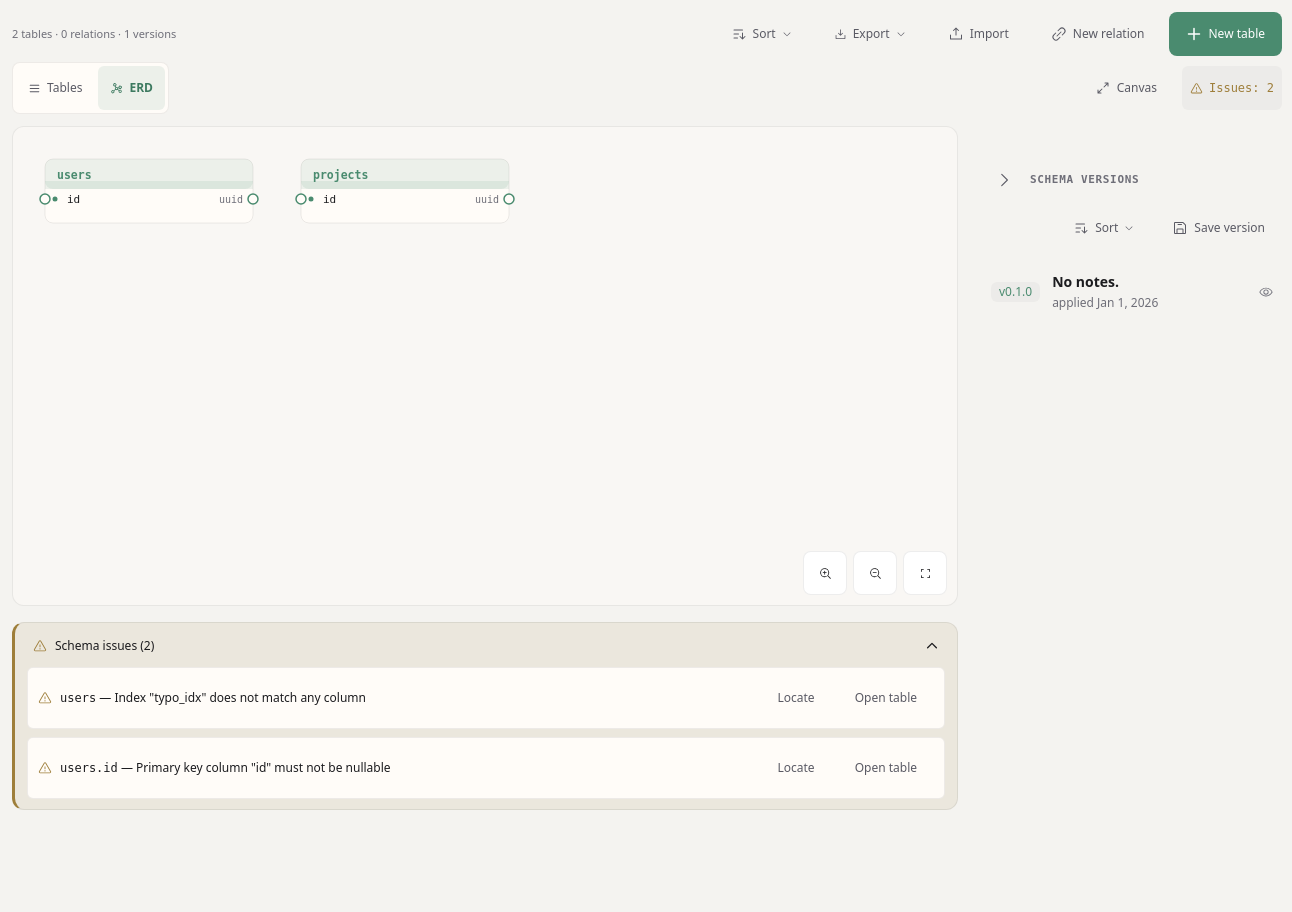
it: SchemaPage F2-3 issues badge + strip › badge membuka + fokus strip, tidak toggle; collapse via header
This screenshot has width=1292, height=912.
Expected: the element that starts with "Schema issues (2)" is shown, [12, 622, 958, 810]
// Klik badge saat terbuka: tetap terbuka + fokus ke strip (rAF).
Click the button with aria-label "2 schema issues".
click(1232, 88)  # box [1182, 66, 1282, 110]
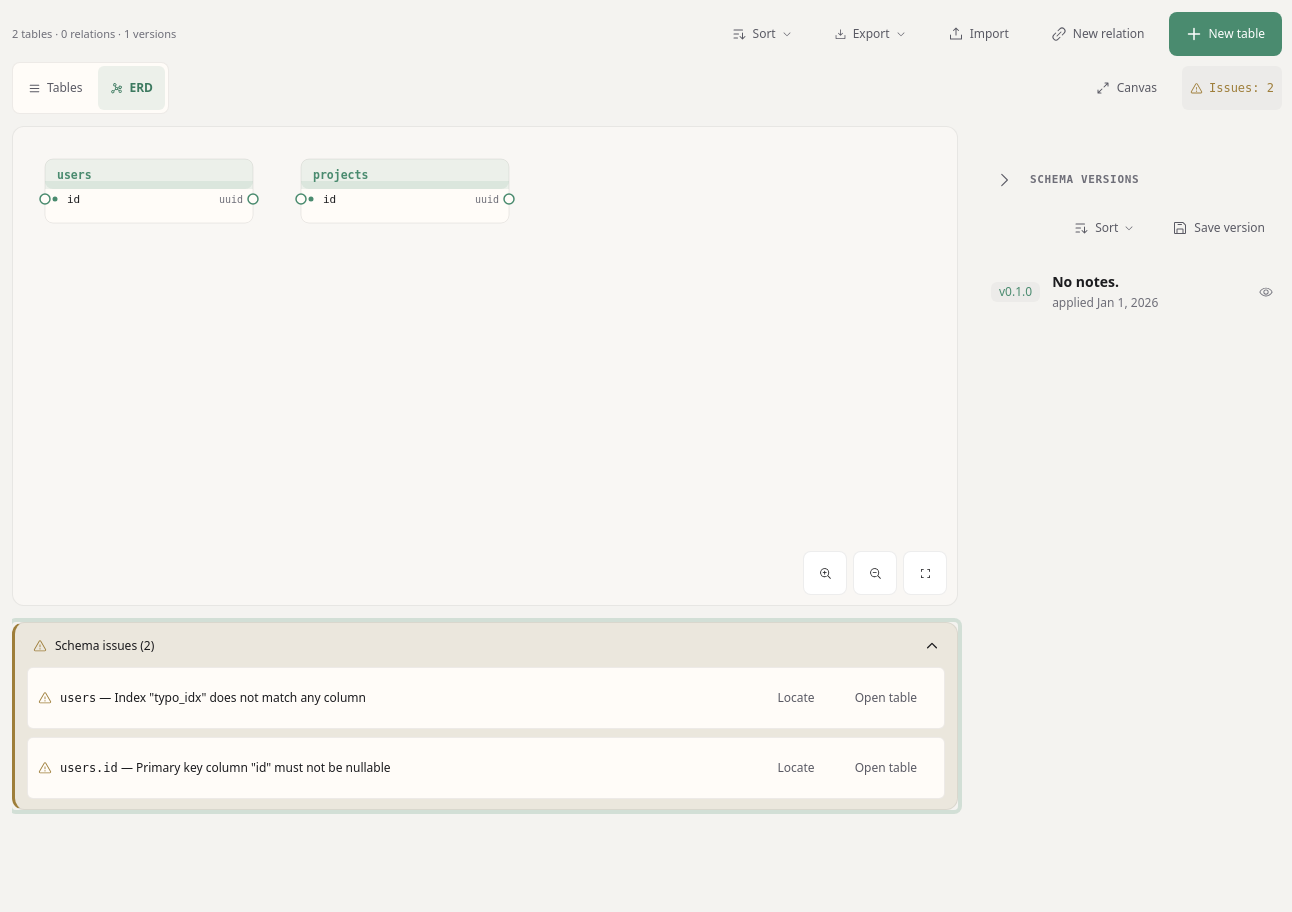
Expected: the element that starts with "Schema issues (2)" is shown, [12, 622, 958, 810]
Click the button "Schema issues (2)".
click(105, 646)  # box [27, 633, 945, 659]
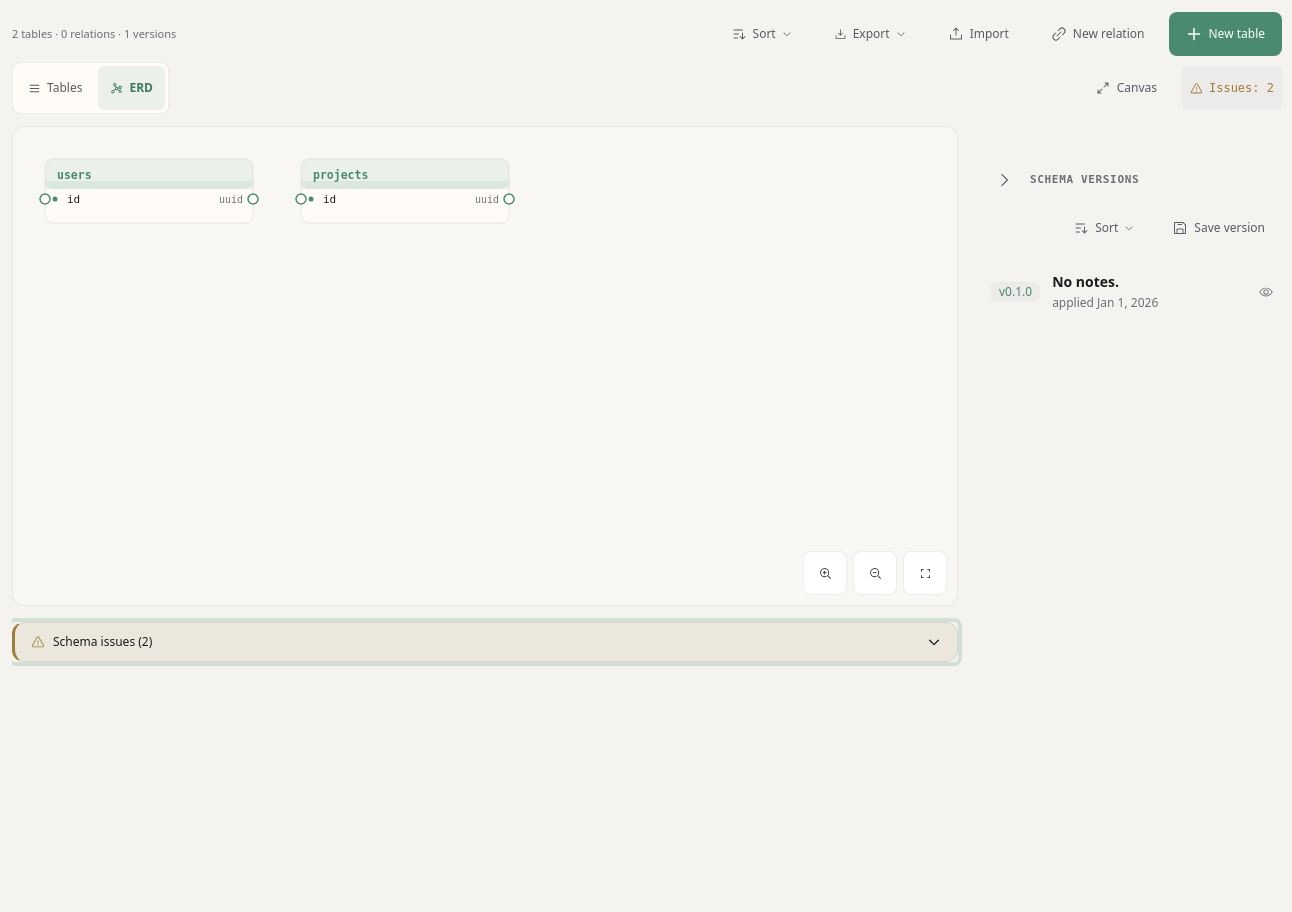
Expected: the button "Schema issues (2)" is shown, [25, 629, 947, 655]
Expected: the list is gone
// Badge membuka kembali.
Click the button with aria-label "2 schema issues".
click(1232, 88)  # box [1182, 66, 1282, 110]
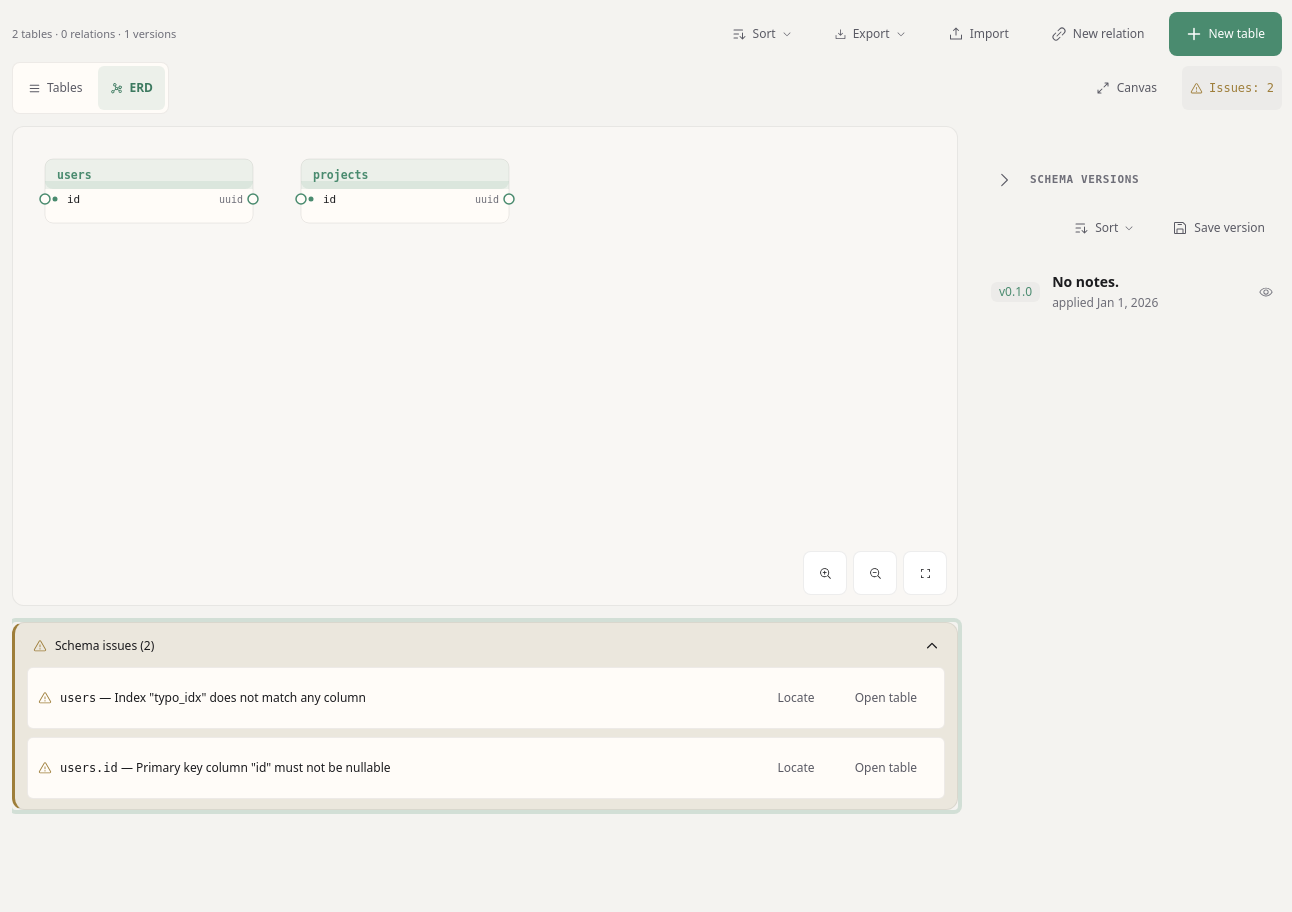
Expected: the element that starts with "users" is shown, [27, 667, 945, 799]
